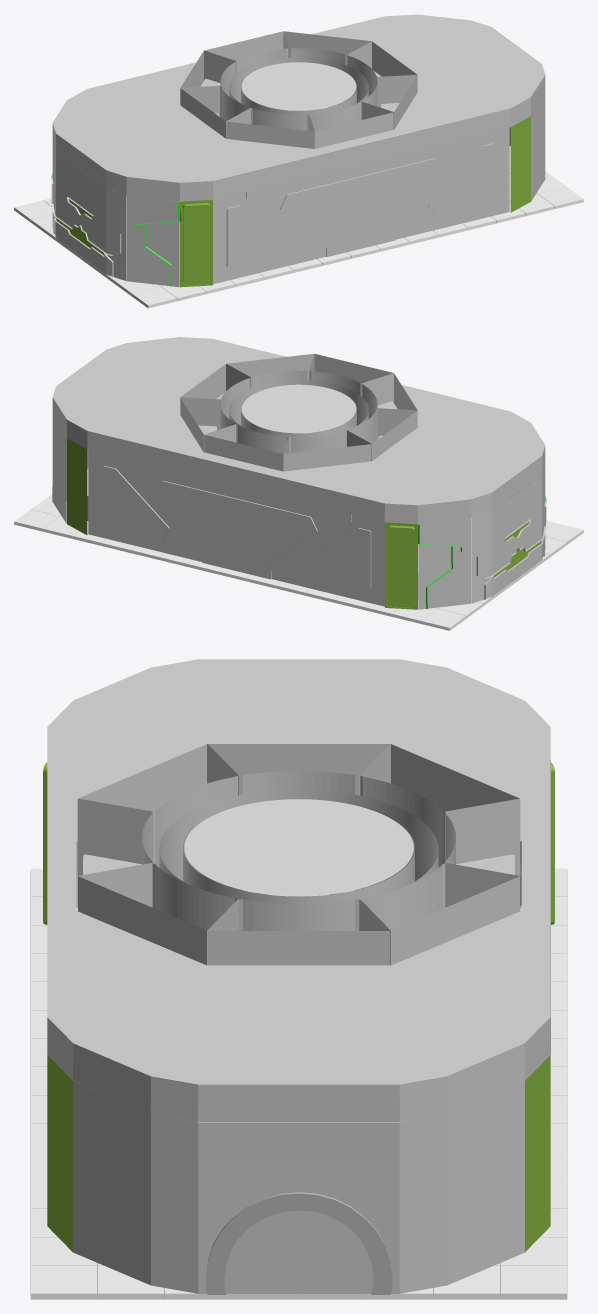
File: central.gltf
3 renders of one model, top to bottom at view 1: azimuth 30°, elevation 25°; view 2: azimuth 150°, elevation 25°; view 3: azimuth 270°, elevation 25°, orthographic. The views are drawn at different scales.
Visible parts, largest first — view 1: Plane.001, Plane.015, Cylinder.001, Plane, Cube.021, Cylinder.002, Plane.007, Plane.009, Cylinder, Plane.008; view 2: Plane.001, Plane.015, Cylinder.001, Plane, Cube.021, Cylinder.002, Plane.007, Plane.009, Plane.008, Cylinder; view 3: Plane.001, Plane.007, Cylinder.001, Cube.021, Cylinder.002, Cylinder, Circle.006, Plane, Cylinder.007.
Boxes of the visible parts, x1,y1,x2,y2 form: Plane.001: (52,14,545,201); Plane.015: (213,110,509,284); Cylinder.001: (180,31,417,148); Plane: (51,152,212,287); Cube.021: (14,146,583,308); Cylinder.002: (241,62,356,110); Plane.007: (510,94,545,212); Plane.009: (51,142,126,280); Cylinder: (229,57,368,115); Plane.008: (183,204,209,285); Plane.001: (52,337,545,523); Plane.015: (88,450,384,606); Cylinder.001: (180,353,417,471); Plane: (385,475,546,609); Cube.021: (14,468,583,630); Cylinder.002: (241,384,356,433); Plane.007: (52,416,87,534); Plane.009: (471,465,546,603); Plane.008: (388,527,414,607); Cylinder: (229,380,368,437); Plane.001: (47,659,550,1121); Plane.007: (47,1055,550,1293); Cylinder.001: (77,744,520,965); Cube.021: (30,868,567,1299); Cylinder.002: (184,799,413,896); Cylinder: (159,789,438,903); Circle.006: (205,1192,392,1294); Plane: (43,762,554,924); Cylinder.007: (83,854,514,874).
Size of what is drawn, in the model's own units: 60.38 by 16.42 by 32.
